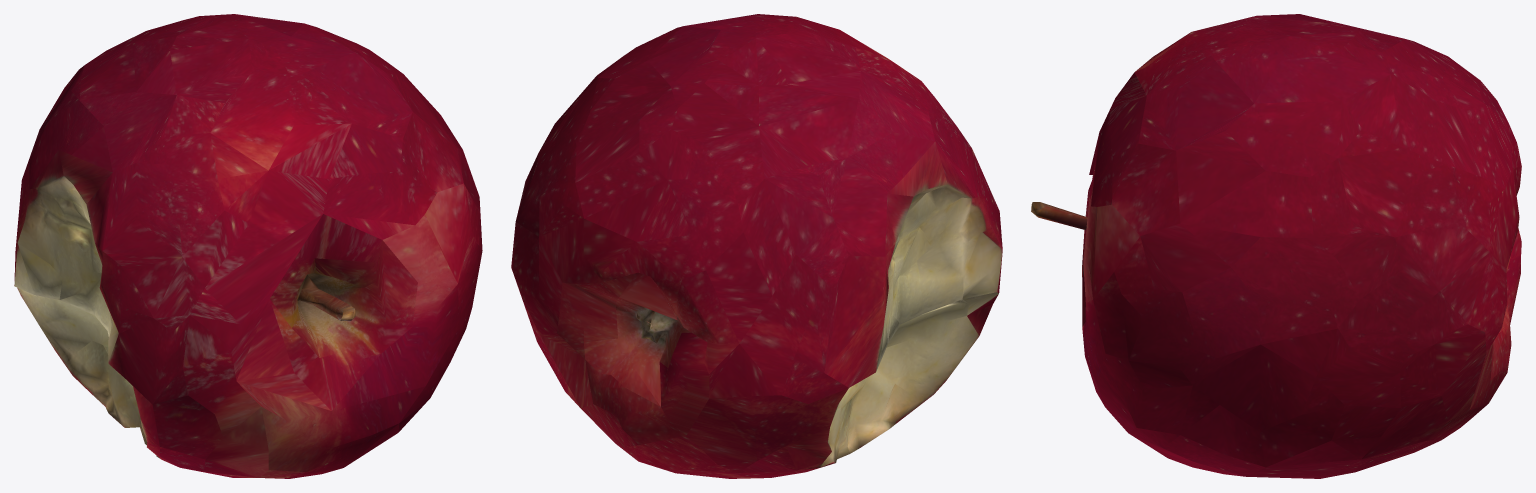
Rendered from apple_mid_lod_050.obj.
3 views of the same model, side by side, from view 1: azimuth 30°, elevation 25°; view 2: azimuth 150°, elevation 25°; view 3: azimuth 270°, elevation 25° (orthographic). The views are drawn at different scales.
Size of the model in its own units: 0.7495 by 0.7655 by 0.7991.
Materials: 1 (1 with a texture image).
